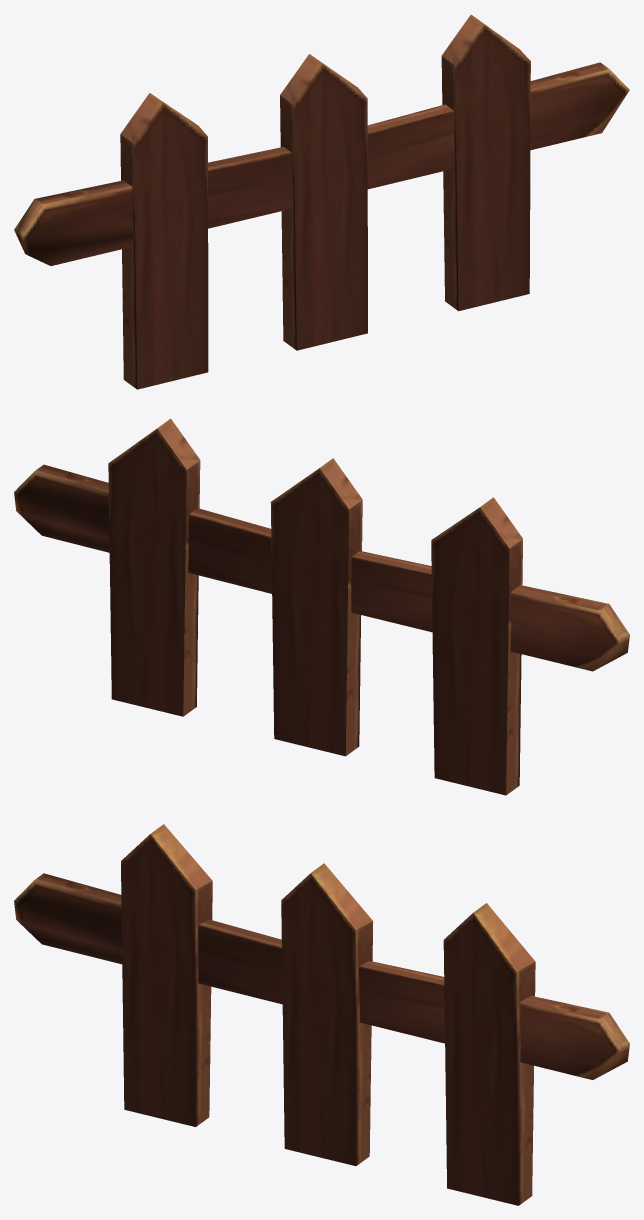
Rendered from Zhalan05.FBX.
3 views of the same model, one above another, from view 1: azimuth 30°, elevation 25°; view 2: azimuth 150°, elevation 25°; view 3: azimuth 330°, elevation 25° (orthographic).
Visible parts, largest first — view 1: Zhalan05; view 2: Zhalan05; view 3: Zhalan05.
Boxes of the visible parts, x1,y1,x2,y2 form: Zhalan05: (14,14,629,389); Zhalan05: (14,418,629,795); Zhalan05: (14,824,629,1205).
Size of the model in its own units: 115 by 51.11 by 5.02.
